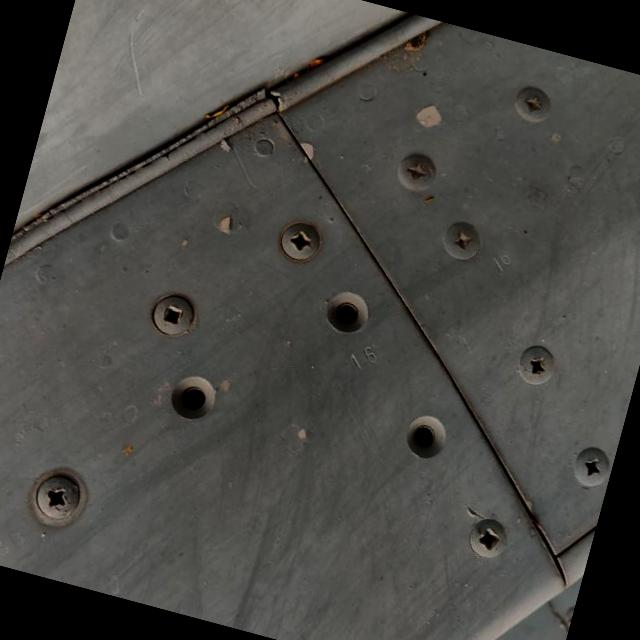Missing Fastener: (157, 366, 229, 434), (314, 280, 380, 343), (397, 410, 452, 468)
